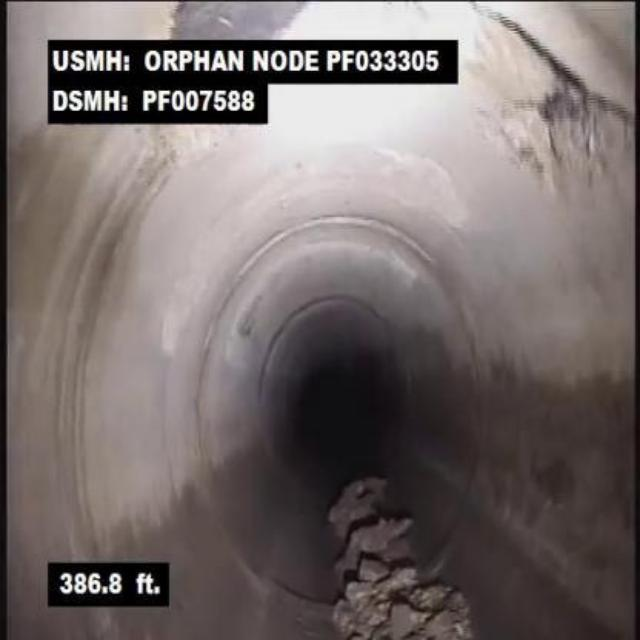Debris: (326, 551, 494, 638)
Hole: (466, 6, 638, 180)
